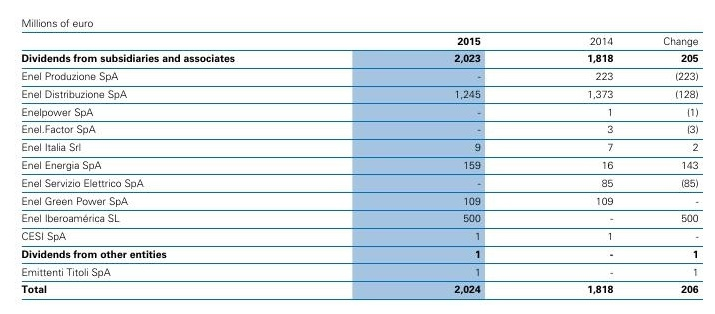table: (0, 0, 715, 314)
